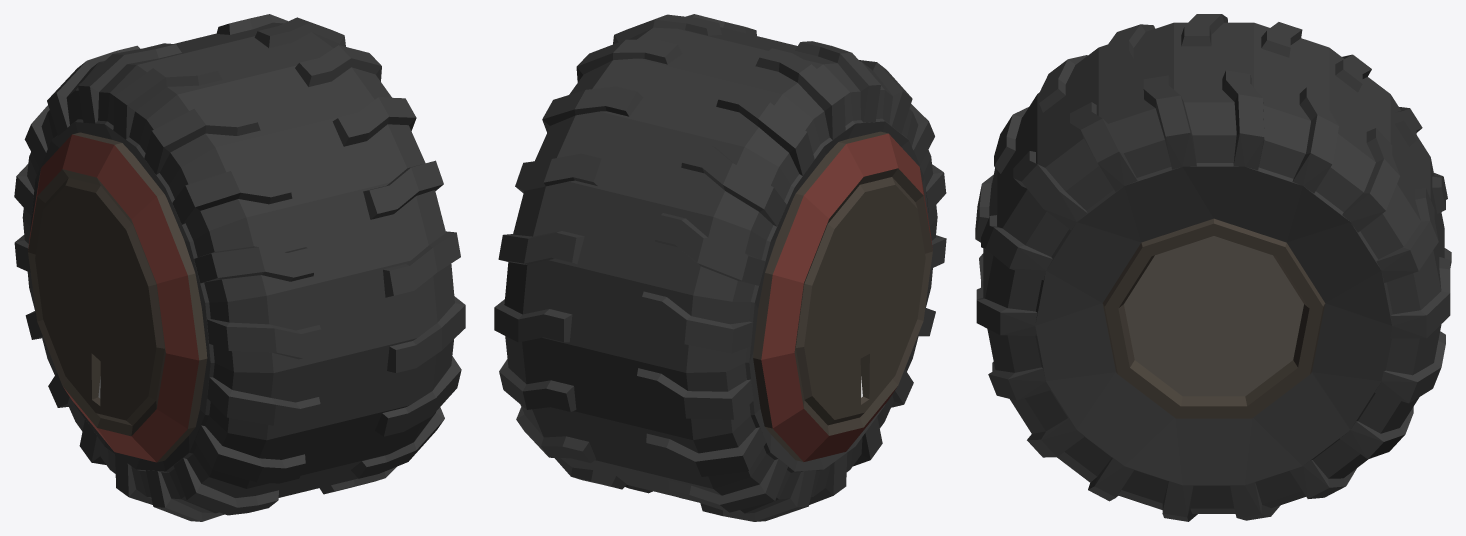
File: wheel.fbx
3 views of the same model, side by side, from view 1: azimuth 30°, elevation 25°; view 2: azimuth 150°, elevation 25°; view 3: azimuth 270°, elevation 25° (orthographic).
Visible parts, largest first — view 1: SM_Veh_Buggy_01_Wheel_rr.001; view 2: SM_Veh_Buggy_01_Wheel_rr.001; view 3: SM_Veh_Buggy_01_Wheel_rr.001.
Boxes of the visible parts, x1,y1,x2,y2 form: SM_Veh_Buggy_01_Wheel_rr.001: [14, 14, 465, 521]; SM_Veh_Buggy_01_Wheel_rr.001: [494, 14, 946, 521]; SM_Veh_Buggy_01_Wheel_rr.001: [975, 14, 1451, 521].
Bounding box in the file's own units: 32.02 × 50.63 × 50.63.
1 material, 1 textured.
